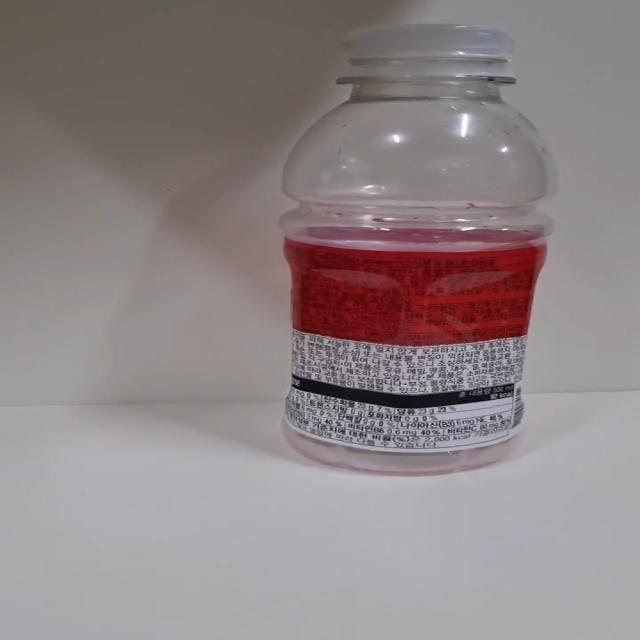Plastic: (278, 24, 558, 476)
